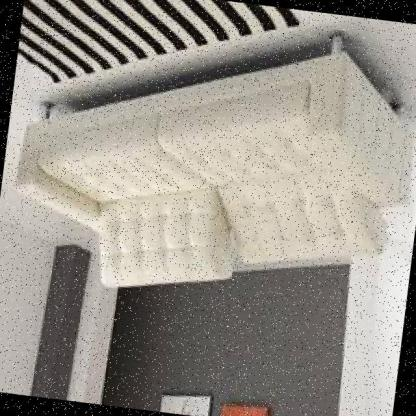Sofa: (0, 0, 416, 332)
